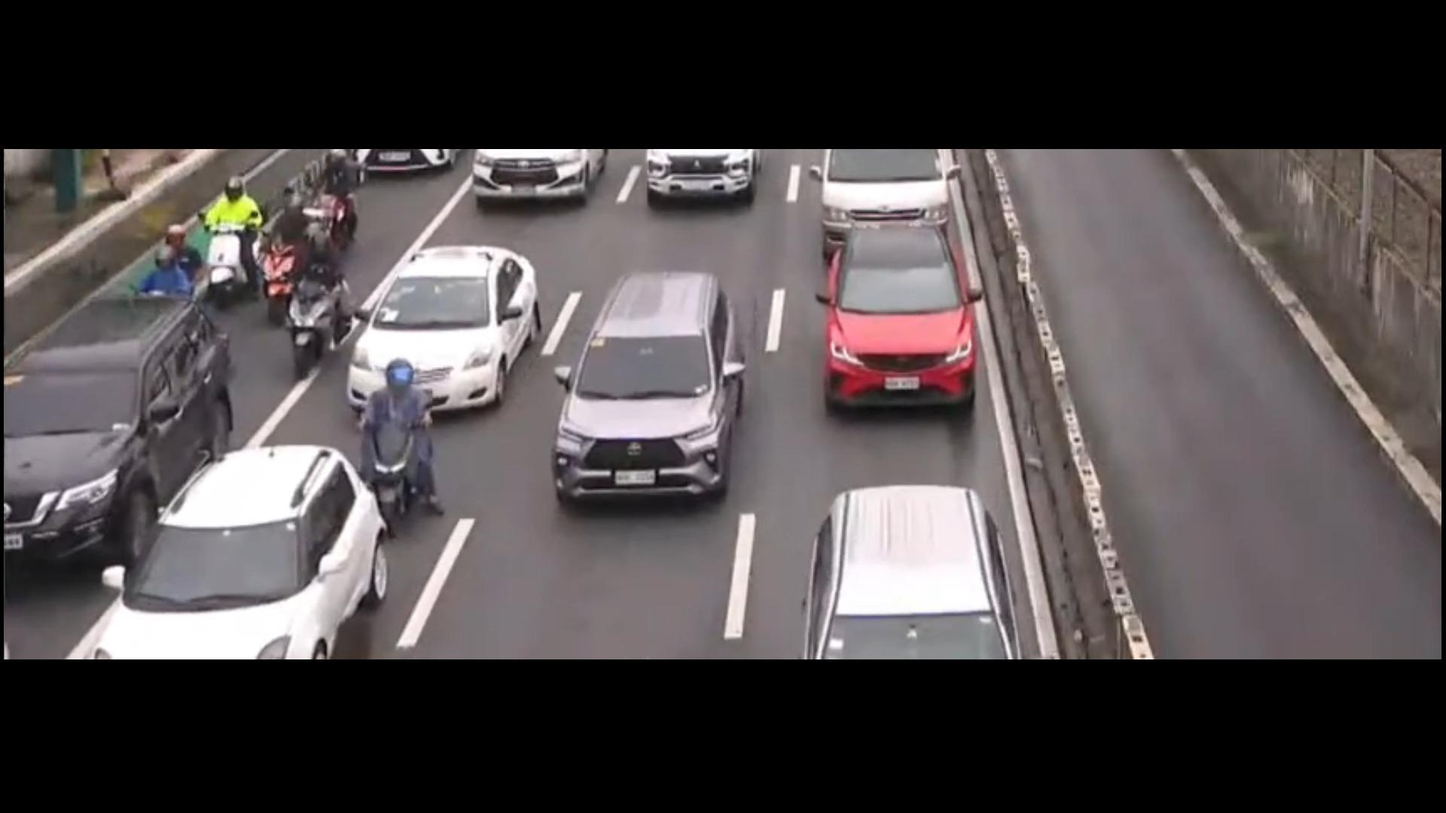Motorcycle: (355, 354, 437, 534), (259, 193, 325, 324), (291, 255, 353, 375), (203, 178, 258, 307)
SUV: (5, 291, 235, 581), (90, 444, 392, 659), (550, 273, 746, 509), (804, 483, 1022, 658), (819, 225, 984, 414), (464, 148, 613, 197), (643, 149, 764, 199)
Sedan: (343, 245, 541, 411)
Van: (819, 148, 955, 257)
